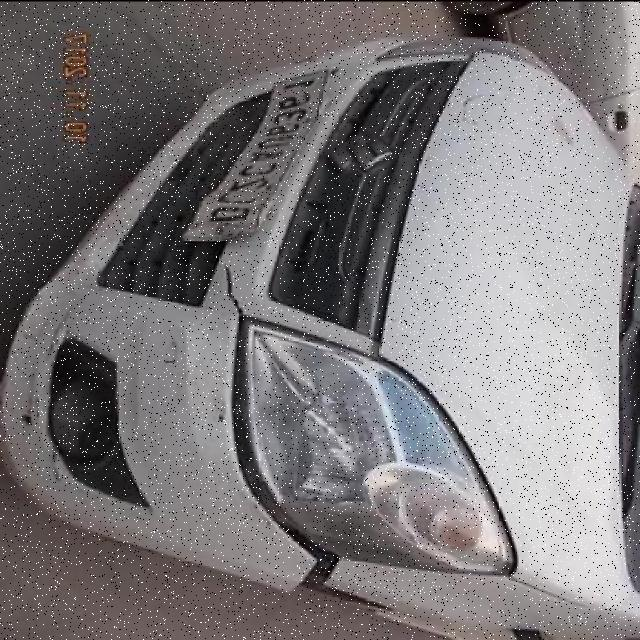damage: (205, 249, 348, 594), (1, 262, 97, 491)
